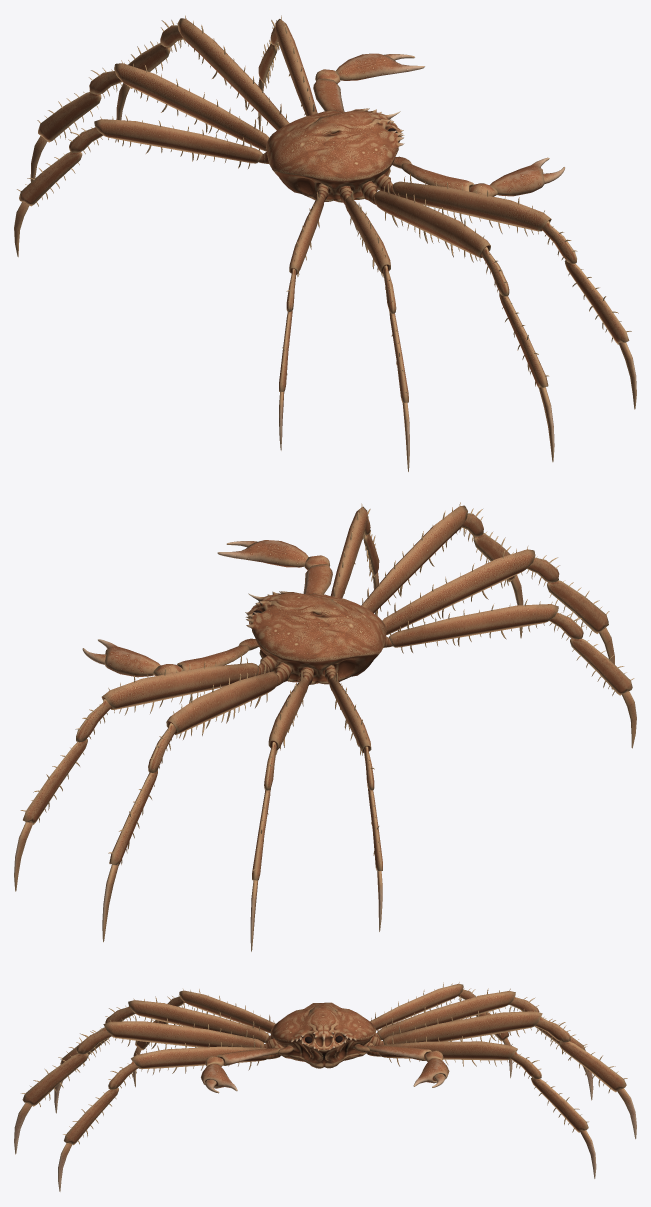
The model's file is Crab.dae.
3 renders of one model, top to bottom at view 1: azimuth 30°, elevation 25°; view 2: azimuth 150°, elevation 25°; view 3: azimuth 270°, elevation 25°, orthographic. The views are drawn at different scales.
Visible parts, largest first — view 1: Crab; view 2: Crab; view 3: Crab.
Part boxes in pixels (x1,y1,x2,y2): Crab: [14, 15, 636, 471]; Crab: [14, 502, 636, 951]; Crab: [14, 982, 636, 1191].
Size of the model in its own units: 2.36 by 4.92 by 1.27.
1 material, 1 textured.
